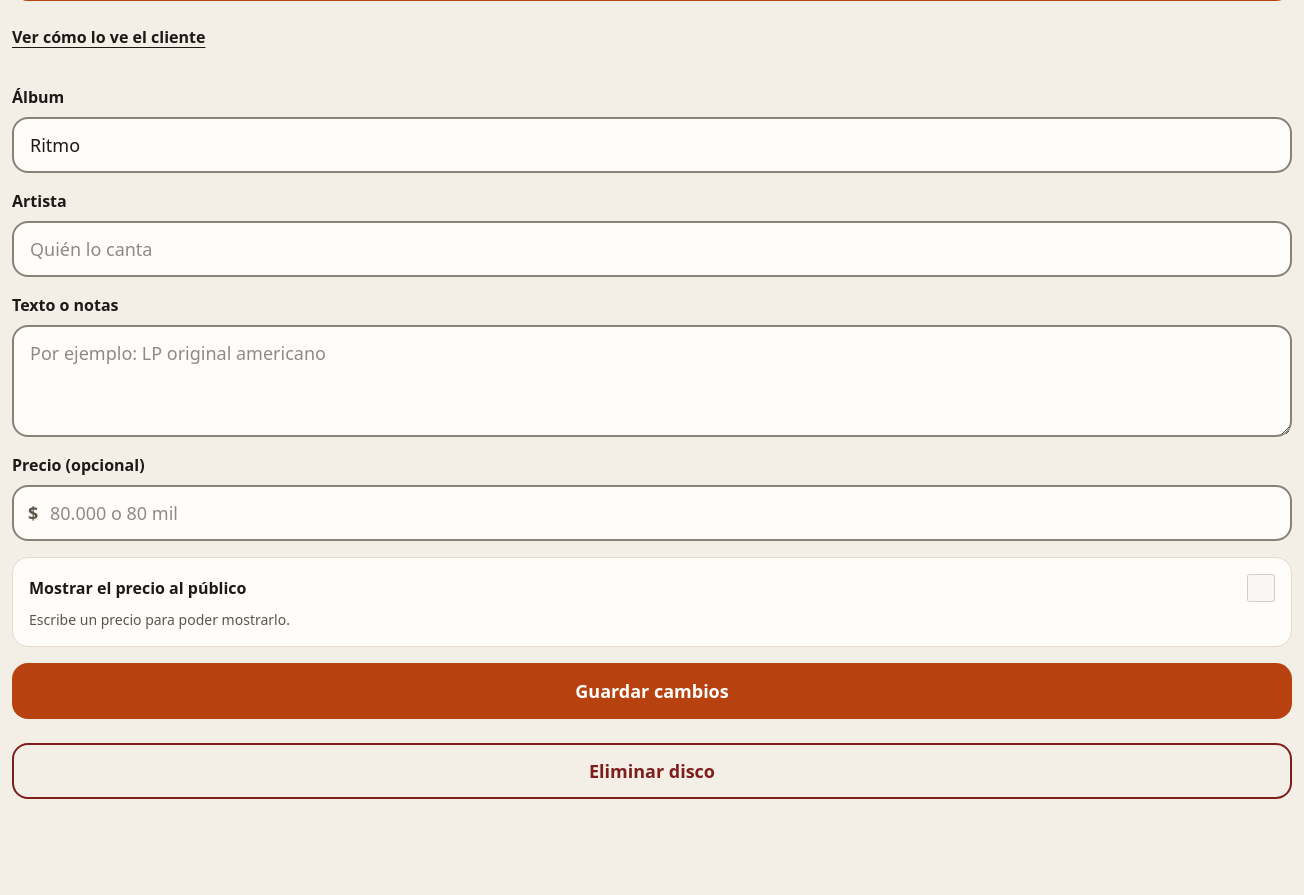
RecordDetail › shows a save failure without a technical message
The width and height of the screenshot is (1304, 895).
(page scrolled)
Click the button "Guardar cambios": (652, 691) top-left (12, 663), bottom-right (1292, 719)
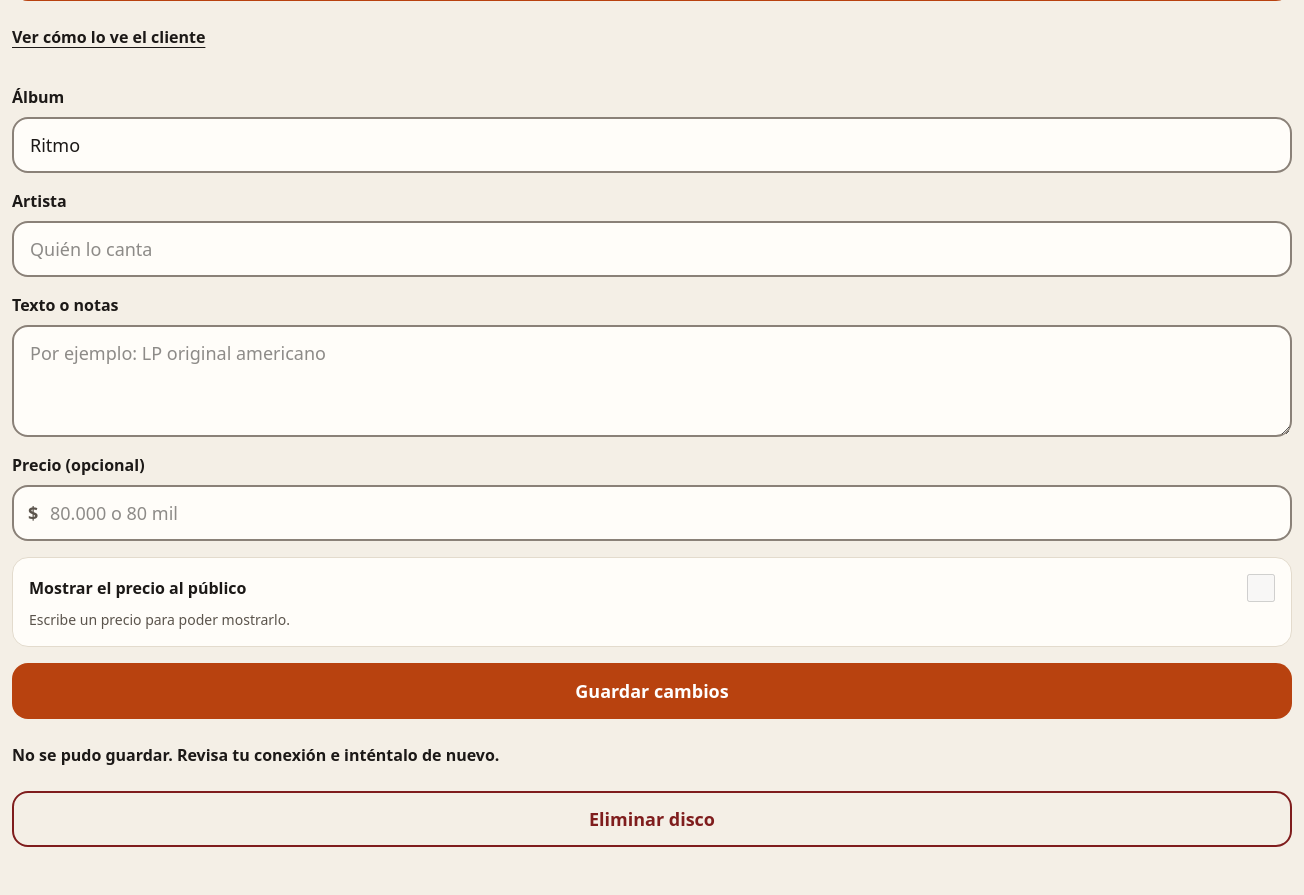
Expected: the text "No se pudo guardar. Revisa tu conexión e inténtalo de nuevo." is shown, top-left (12, 744), bottom-right (499, 766)
